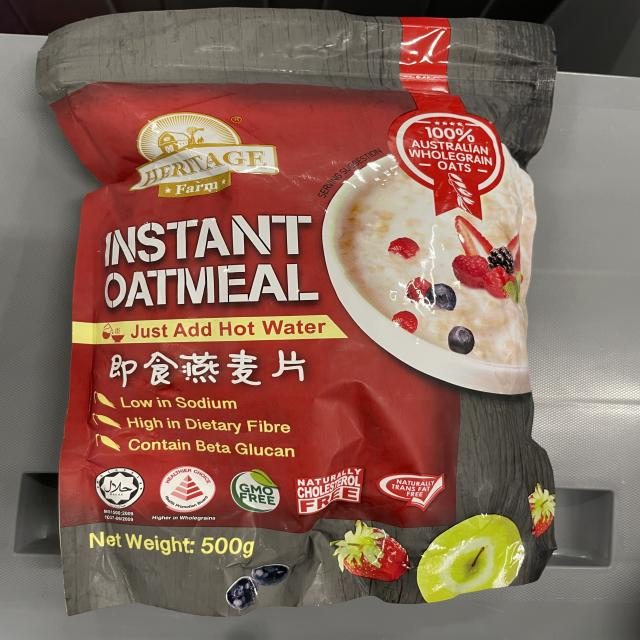object_name: (68, 27, 529, 607)
